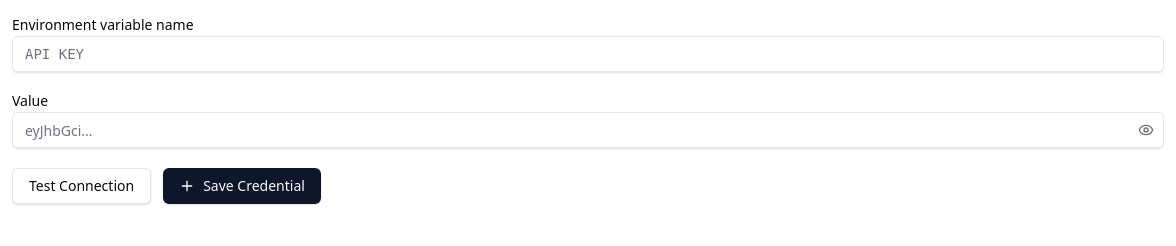
it: CredentialInput › shows warning when env var name already exists
The width and height of the screenshot is (1176, 246).
Type "existing_key" into the field labelled "Environment variable name".
click(588, 54); type("existing_key")  # box x1=12 y1=36 x2=1164 y2=72
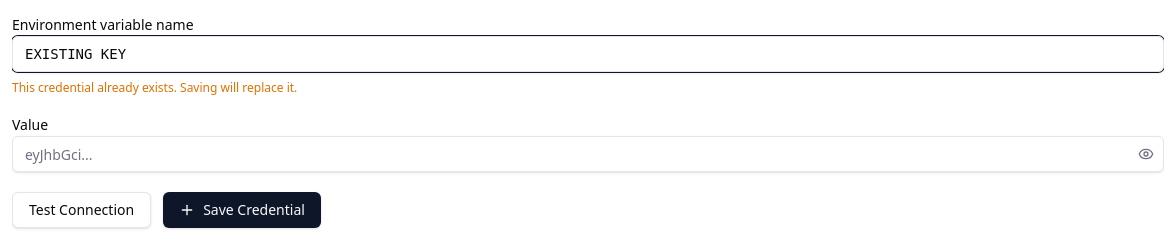
Check: the text "This credential already exists. Saving will replace it." is shown, box x1=12 y1=79 x2=297 y2=96
